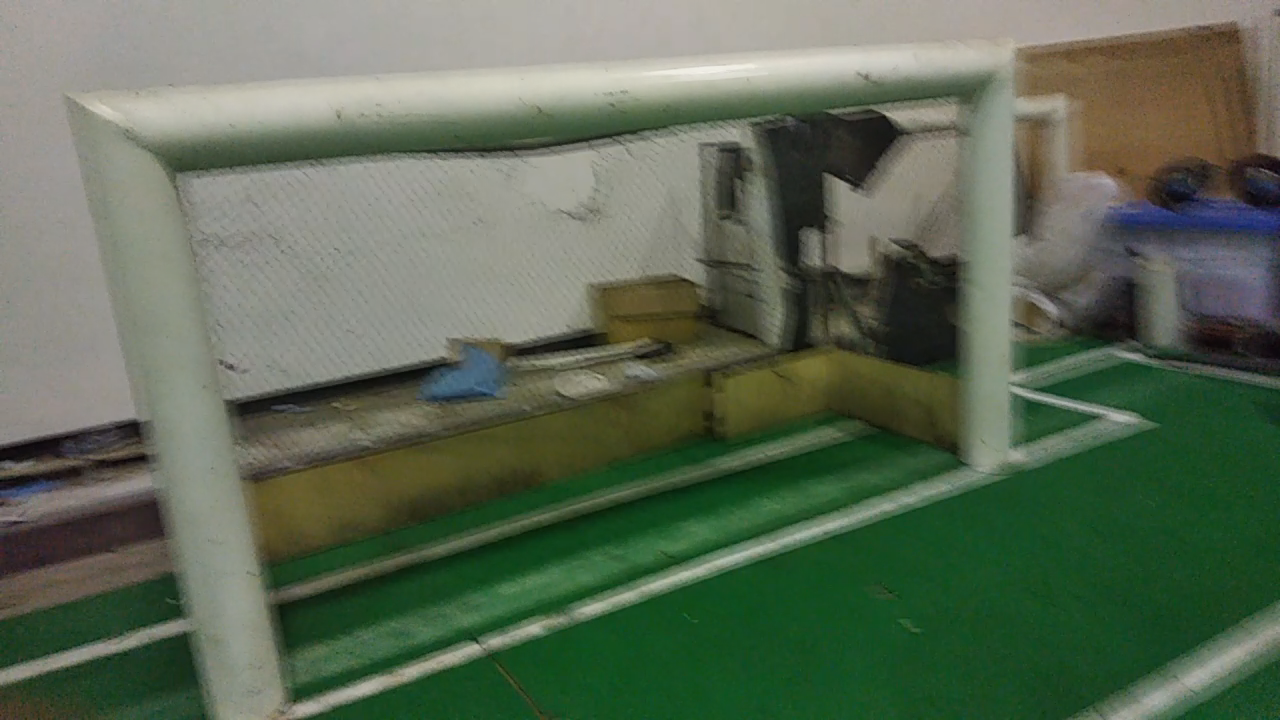gawang: (47, 31, 1021, 719)
